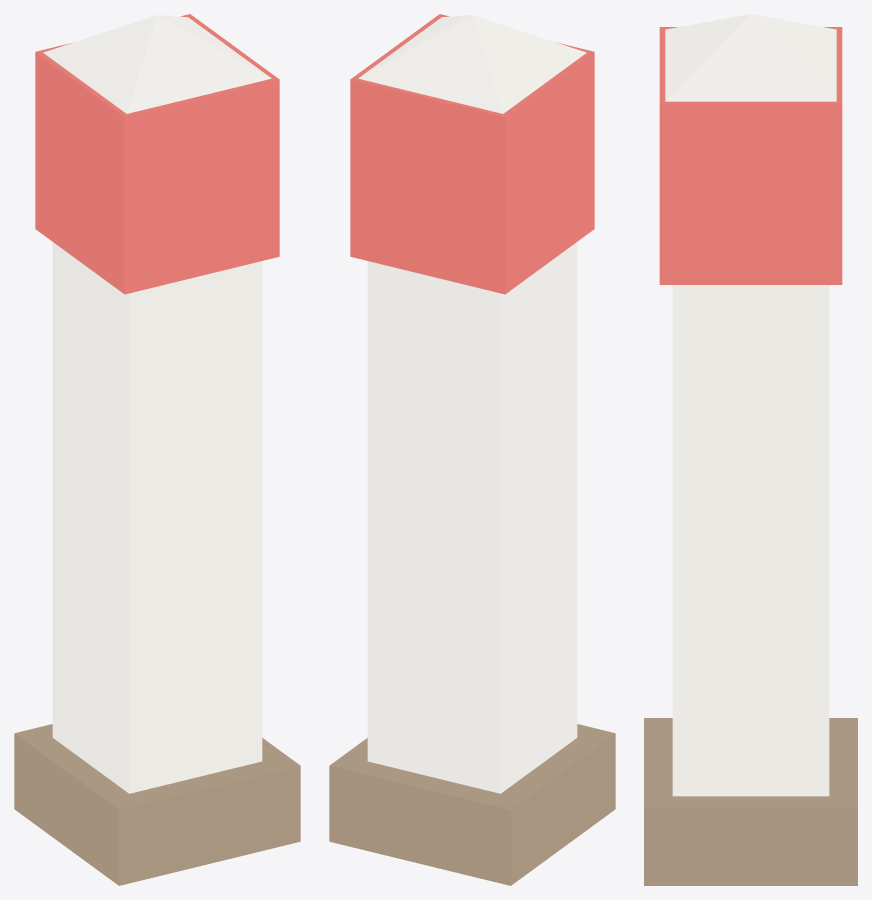
The model's file is Blender_YardagePost_1.glb.
3 renders of one model, left to right at view 1: azimuth 30°, elevation 25°; view 2: azimuth 150°, elevation 25°; view 3: azimuth 270°, elevation 25°, orthographic. The views are drawn at different scales.
Visible parts, largest first — view 1: Blender_YardagePost_1; view 2: Blender_YardagePost_1; view 3: Blender_YardagePost_1.
Part boxes in pixels (left/top/right/bottom): Blender_YardagePost_1: left=14, top=14, right=300, bottom=885; Blender_YardagePost_1: left=329, top=14, right=615, bottom=885; Blender_YardagePost_1: left=644, top=14, right=857, bottom=885.
Bounding box in the file's own units: 0.15 × 0.64 × 0.15.
